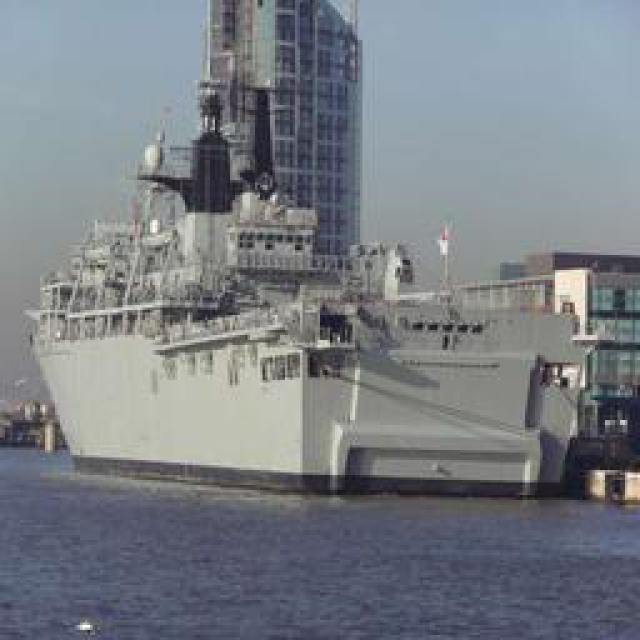Ship: (35, 159, 613, 494)
